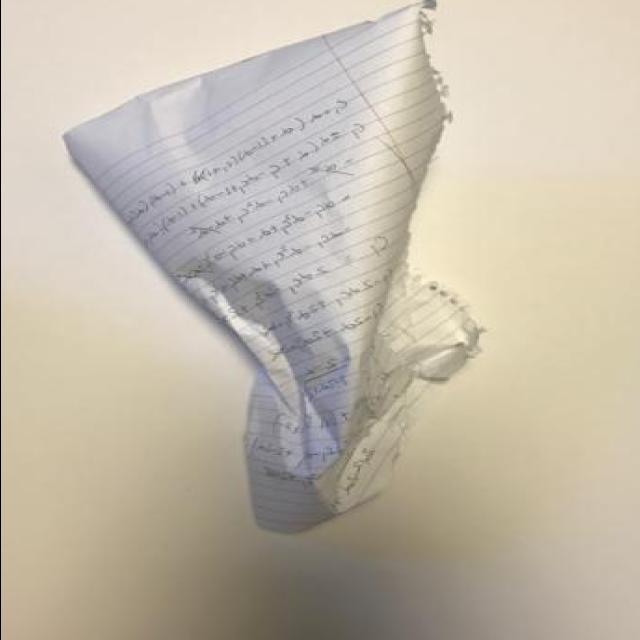kertas: (60, 0, 492, 533)
